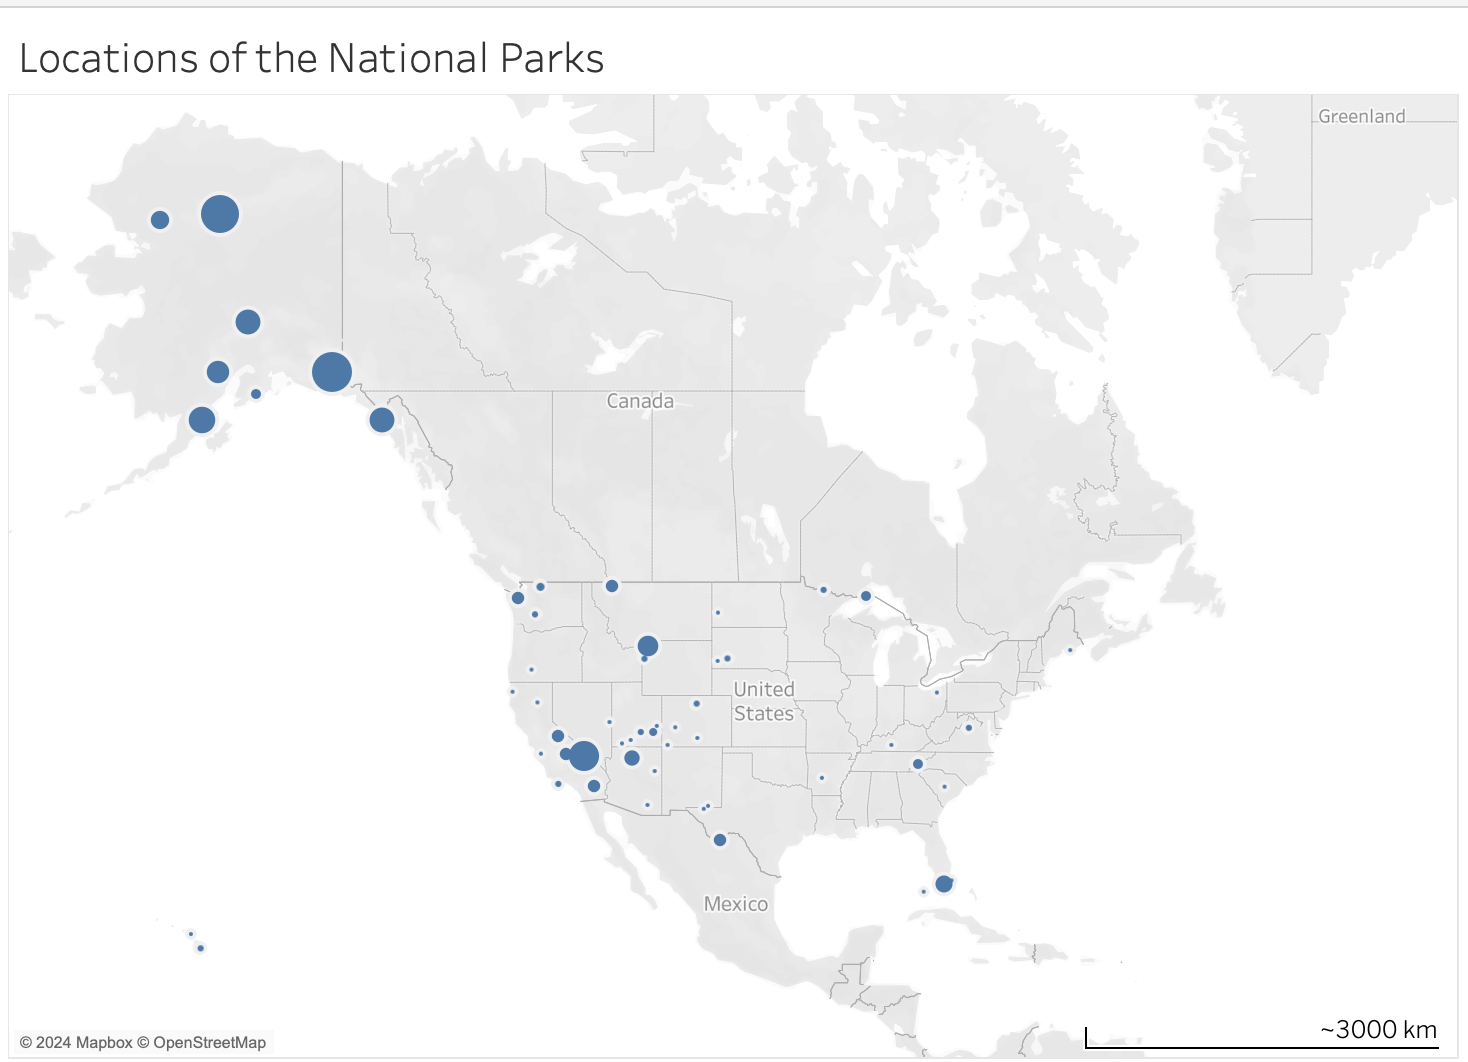

The page's visual inventory and layout, read from the dashboard file:
{"tool":"tableau","page":{"name":"Dashboard 1","canvas":[1000,800],"ordinal":0},"visuals":[{"type":"worksheet","title":"us_parks_locations","mark":"Automatic","rows":["Latitude"],"cols":["Longitude"],"box":[8,8,824,784]},{"type":"legend","title":"us_parks_locations","param":"[federated.0cdlst71lt6bko19hse2d0mgkbwd].[sum:Calculation_2699907986871406592:qk","box":[831,8,162,237]}]}

Visuals, with their boxes in screenshot pixels (x1, y1, x2, y2):
"us_parks_locations" worksheet: select_region(209, 52, 1250, 1043)
"us_parks_locations" legend: select_region(1249, 52, 1454, 352)
